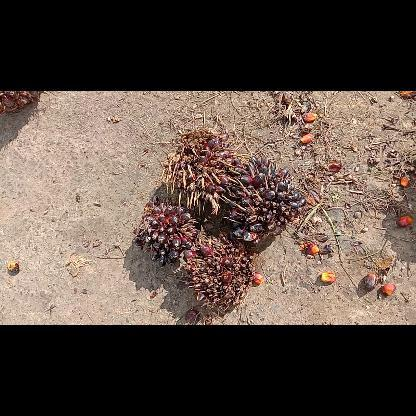TBS abnormal: (162, 129, 248, 212), (227, 157, 305, 242), (184, 232, 252, 309), (132, 195, 198, 266)
